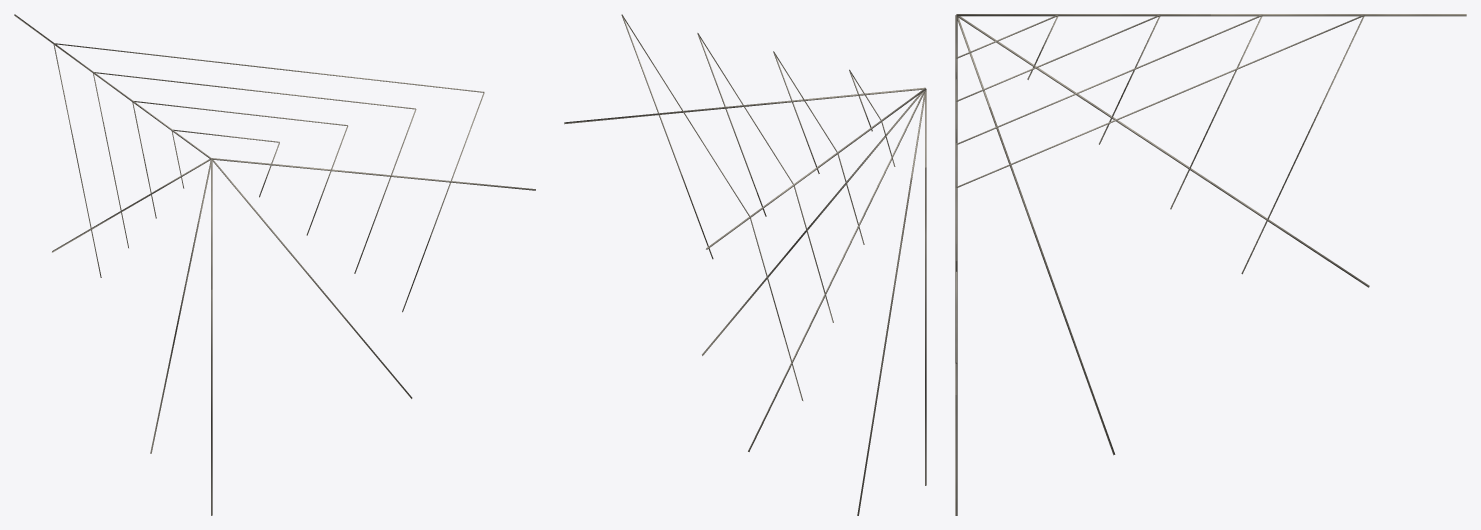
The model's file is D04_cobweb_corner_v2.glb.
The picture shows the model from 3 angles, left to right: view 1: azimuth 30°, elevation 25°; view 2: azimuth 150°, elevation 25°; view 3: azimuth 270°, elevation 25°; orthographic projection. The views are drawn at different scales.
Visible parts, largest first — view 1: D04_cobweb_corner_v2; view 2: D04_cobweb_corner_v2; view 3: D04_cobweb_corner_v2.
Boxes of the visible parts, box(x1,y1,x2,y2) form: D04_cobweb_corner_v2: box(14, 14, 535, 515); D04_cobweb_corner_v2: box(564, 14, 926, 515); D04_cobweb_corner_v2: box(955, 14, 1466, 515).
Size of the model in its own units: 0.571 by 0.6 by 0.5998.
Materials: 1 (1 with a texture image).
